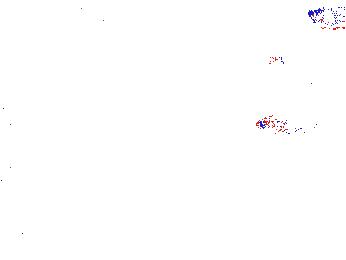glassfish: (69, 2, 213, 65)
red belly glassfish: (256, 115, 319, 133)
redtail glassfish: (265, 45, 318, 101), (304, 5, 346, 27)
